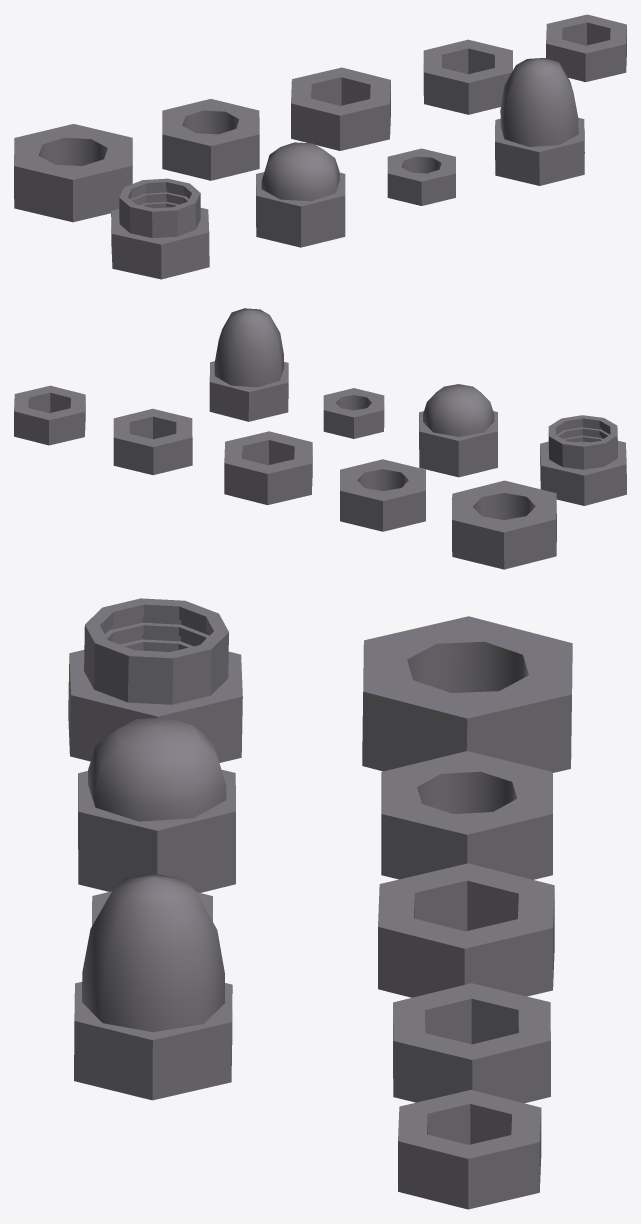
Rendered from Nuts.fbx.
The picture shows the model from 3 angles, top to bottom: view 1: azimuth 30°, elevation 25°; view 2: azimuth 150°, elevation 25°; view 3: azimuth 270°, elevation 25°; orthographic projection. The views are drawn at different scales.
Visible parts, largest first — view 1: Nuts; view 2: Nuts; view 3: Nuts.
Boxes of the visible parts, x1,y1,x2,y2 form: Nuts: [14, 14, 626, 279]; Nuts: [14, 308, 626, 569]; Nuts: [68, 598, 572, 1209].
Bounding box in the file's own units: 27.65 × 11.15 × 4.67.
